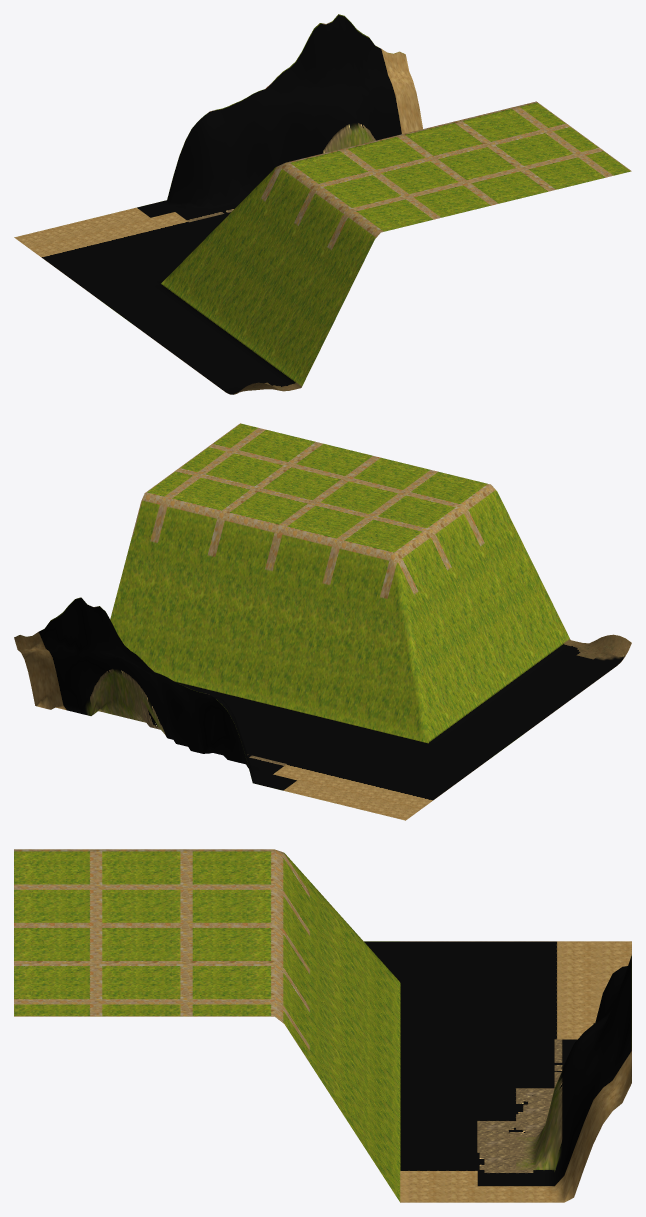
The model's file is terrain.glb.
3 views of the same model, one above another, from view 1: azimuth 30°, elevation 25°; view 2: azimuth 150°, elevation 25°; view 3: azimuth 270°, elevation 25° (orthographic). The views are drawn at different scales.
Visible parts, largest first — view 1: terrain_0_5; view 2: terrain_0_5; view 3: terrain_0_5.
Boxes of the visible parts, x1,y1,x2,y2 form: terrain_0_5: (14, 14, 631, 394); terrain_0_5: (14, 423, 631, 820); terrain_0_5: (14, 849, 631, 1202).
Size of the model in its own units: 512 by 180 by 512.
Materials: 1 (1 with a texture image).
